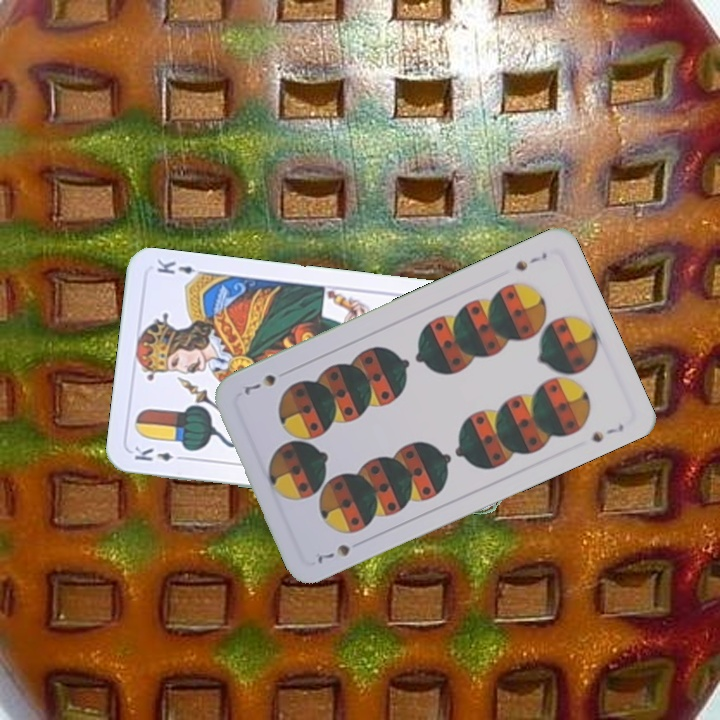EK: (130, 442, 189, 464)
S7: (309, 540, 353, 566), (511, 248, 550, 274)
